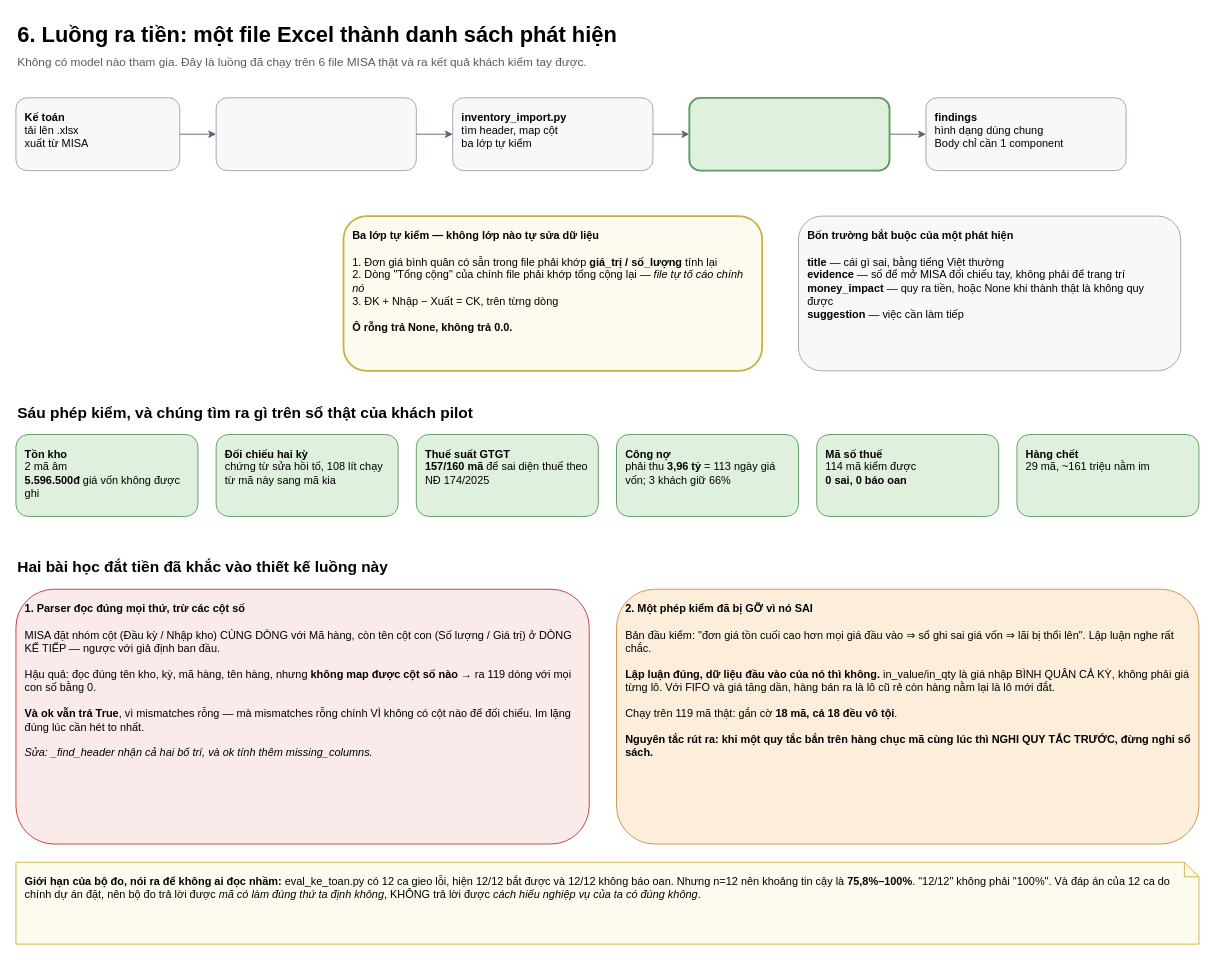
Image size: 1215x960. Some labels were removed from this diagram. The centre of each missing label's shape, as x and y in pixels:
"inventory.py audit_inventory bất đẳng thức số học" goes at point 789,133.
"tools.py /tools/inventory-import file ở RAM, không ghi đĩa" goes at point 315,134.
